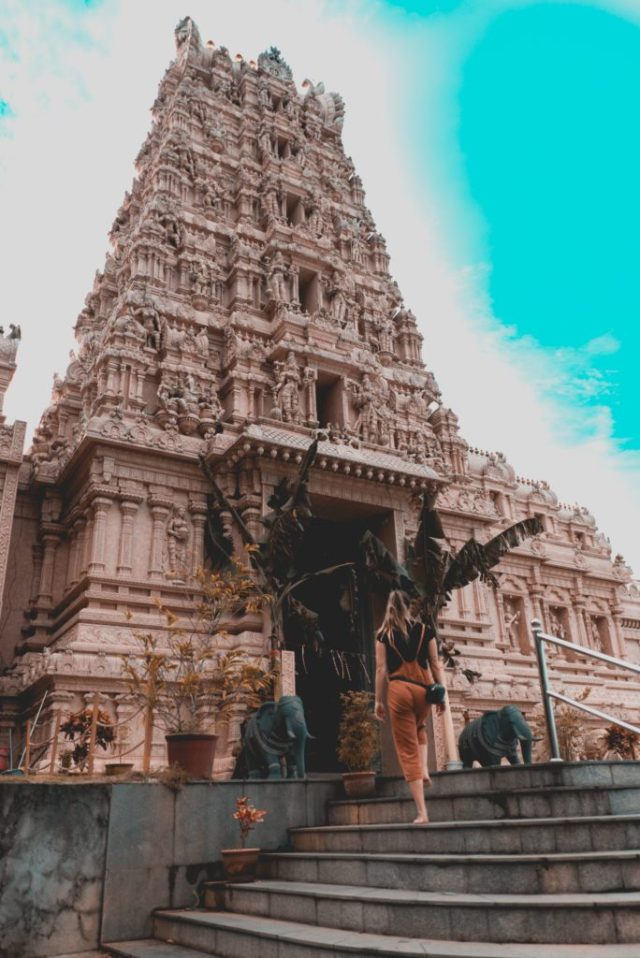Hindu Temple: (5, 17, 626, 766)
